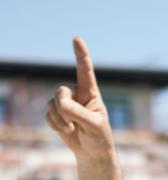up: (42, 34, 116, 150)
